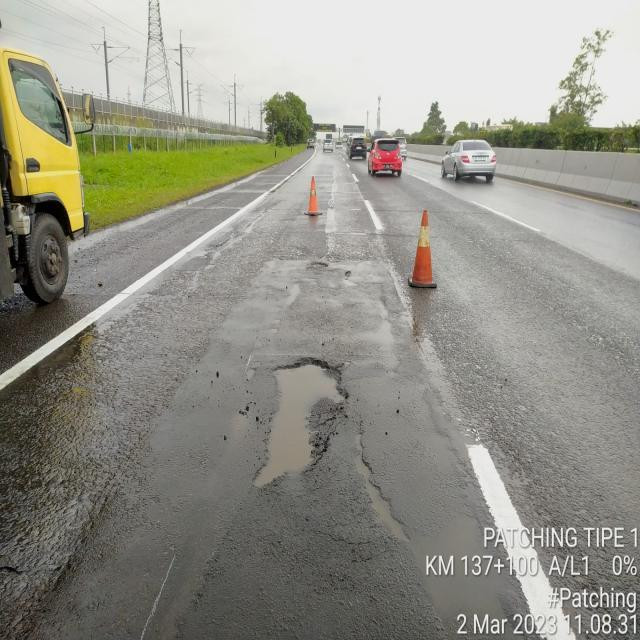Buraco: (248, 355, 356, 493), (351, 430, 414, 547), (304, 260, 330, 274)
